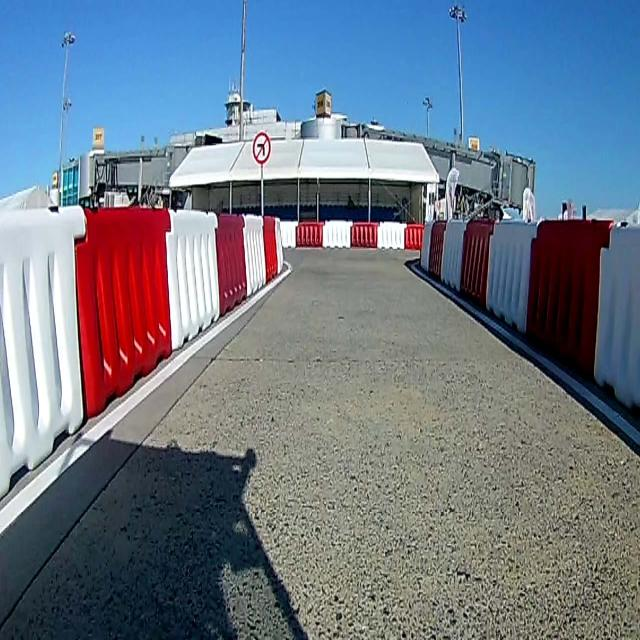soladonulmez: (251, 132, 270, 162)
